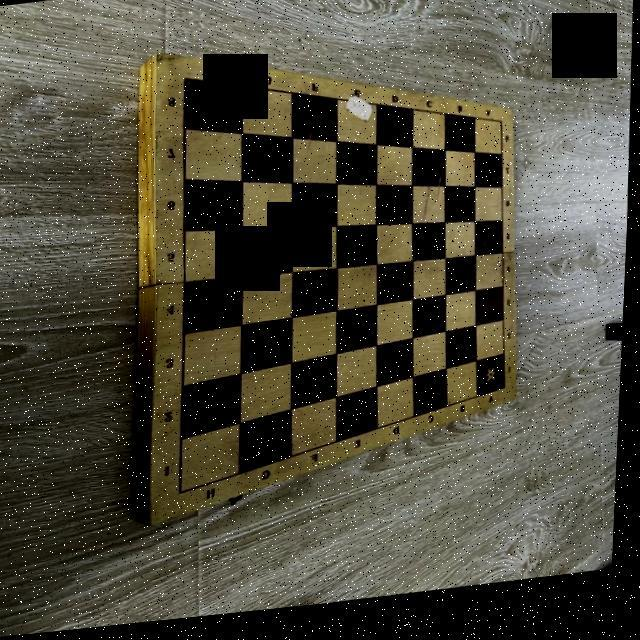chess-table-corners: (178, 490, 192, 503), (178, 75, 191, 88), (496, 127, 509, 138), (503, 394, 512, 404)
